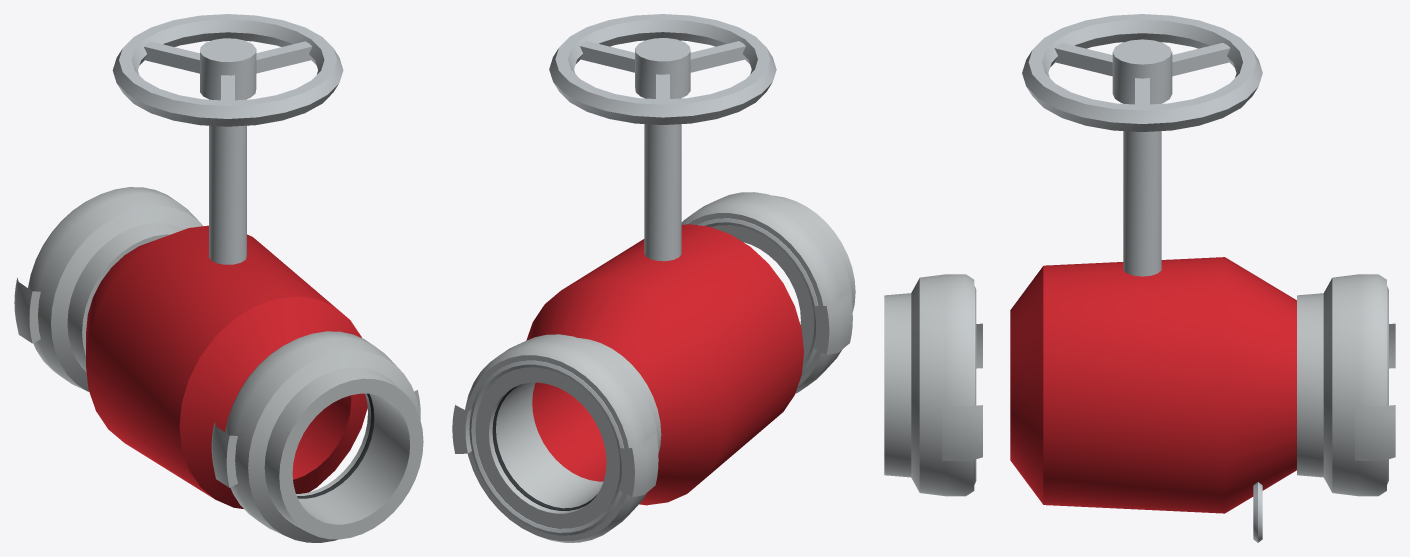
The model's file is ob_gate_valve_1.glb.
The picture shows the model from 3 angles, left to right: view 1: azimuth 30°, elevation 25°; view 2: azimuth 150°, elevation 25°; view 3: azimuth 270°, elevation 25°; orthographic projection. The views are drawn at different scales.
Visible parts, largest first — view 1: ob_gate_valve_1; view 2: ob_gate_valve_1; view 3: ob_gate_valve_1.
Boxes of the visible parts, bbox=[...] form: ob_gate_valve_1: bbox=[14, 14, 423, 542]; ob_gate_valve_1: bbox=[452, 14, 855, 542]; ob_gate_valve_1: bbox=[884, 14, 1395, 542].
Size of the model in its own units: 0.19 by 0.35 by 0.36.
